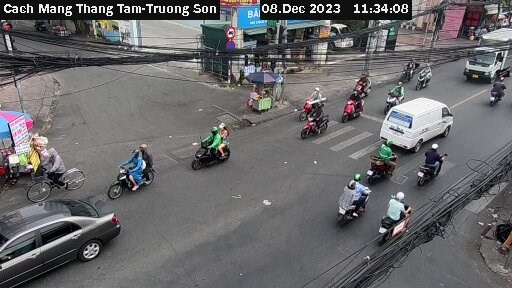car: (1, 192, 126, 283), (379, 93, 458, 154)
motorbike: (100, 144, 168, 207), (181, 122, 258, 177), (325, 172, 368, 219), (374, 193, 417, 238), (365, 145, 408, 183), (302, 107, 339, 146), (417, 145, 451, 187), (340, 93, 375, 126), (379, 77, 406, 110), (412, 61, 436, 93), (349, 71, 376, 97), (398, 56, 418, 83), (485, 76, 506, 101)
truck: (465, 29, 512, 79)
